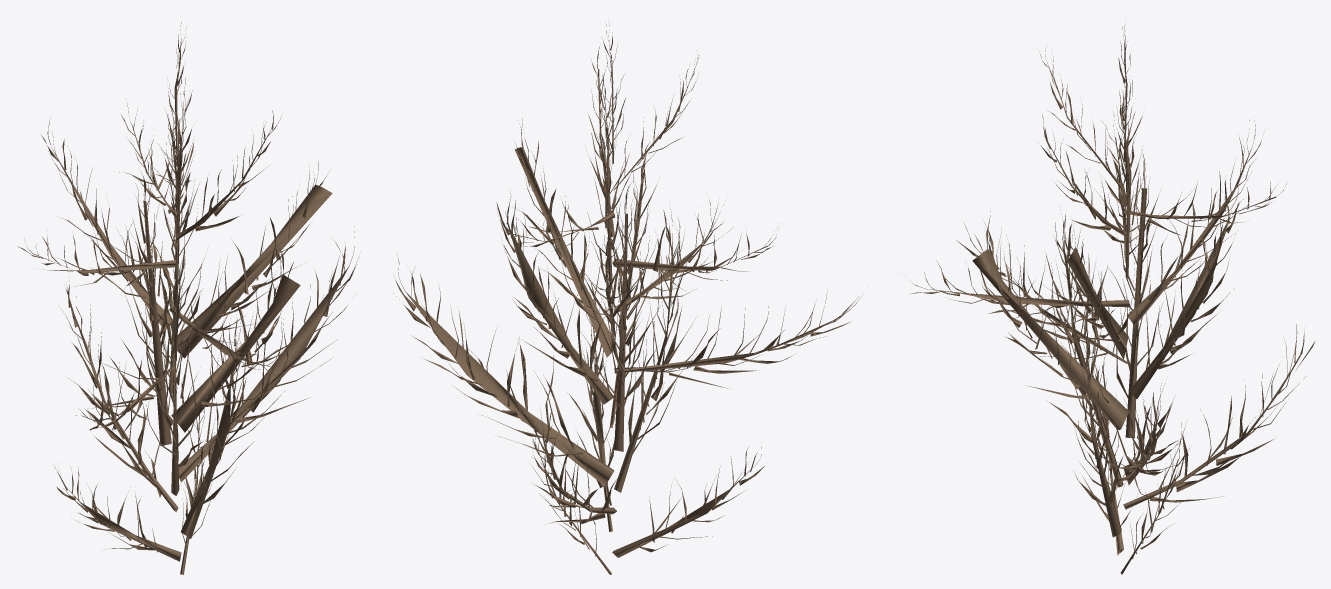
The model's file is Pine_01_LOD0.fbx.
The picture shows the model from 3 angles, left to right: view 1: azimuth 30°, elevation 25°; view 2: azimuth 150°, elevation 25°; view 3: azimuth 270°, elevation 25°; orthographic projection.
Visible parts, largest first — view 1: Pine; view 2: Pine; view 3: Pine.
Part boxes in pixels (left/top/right/bottom): Pine: left=17, top=22, right=359, bottom=574; Pine: left=393, top=24, right=859, bottom=574; Pine: left=909, top=26, right=1314, bottom=574.
Bounding box in the file's own units: 682 × 975 × 663.
